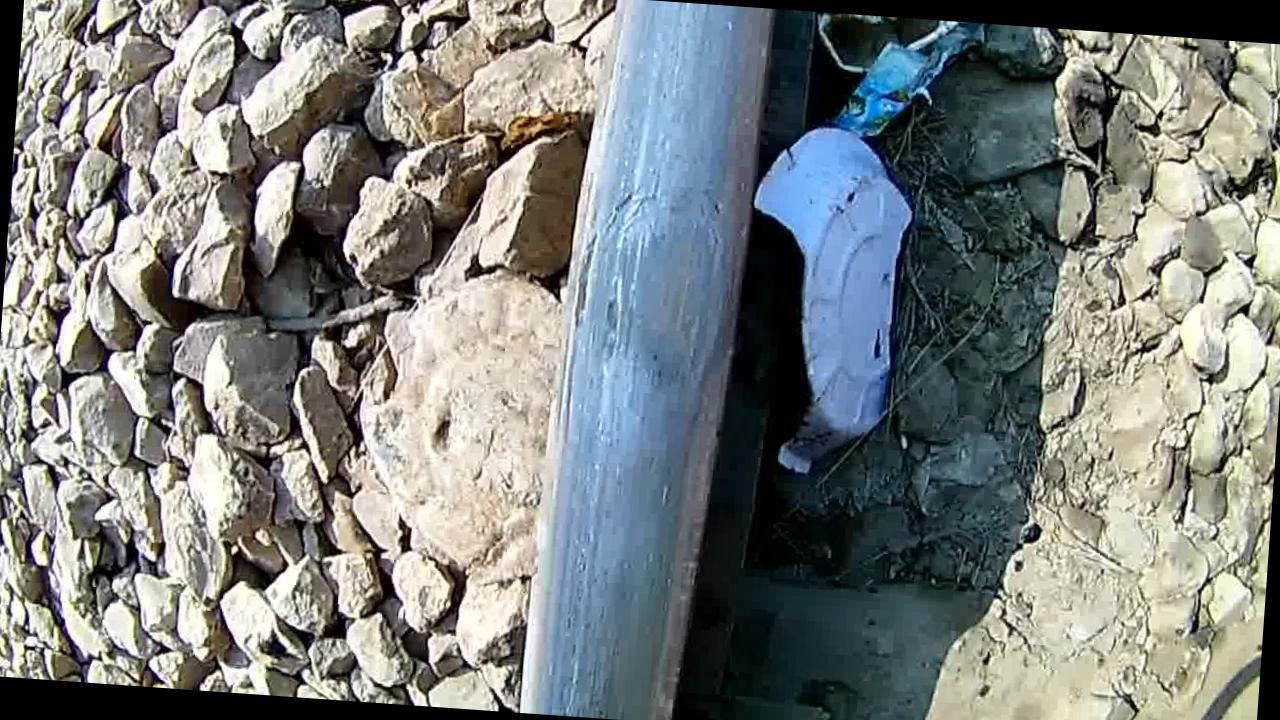bolt_missing: (534, 163, 760, 447)
